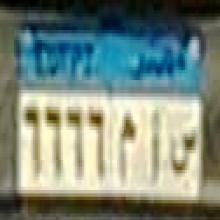6: (64, 100, 85, 184), (87, 104, 107, 182), (44, 104, 64, 181), (23, 103, 41, 180)
alif: (148, 108, 162, 182)
meem: (117, 110, 136, 188)
seen: (168, 125, 198, 181)
